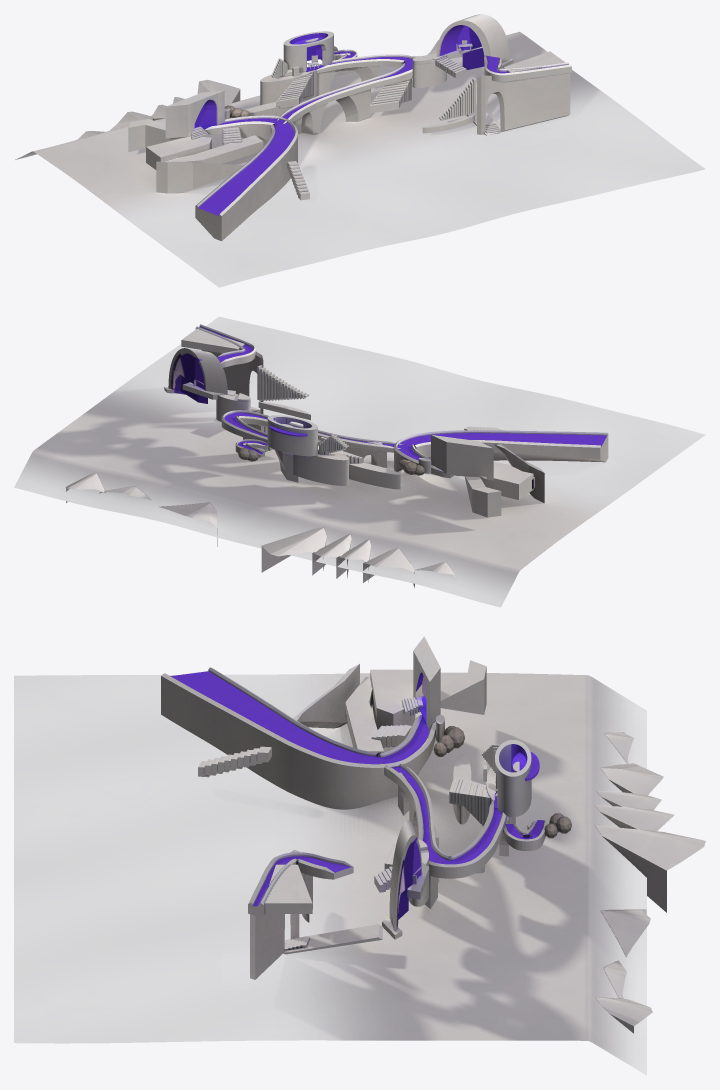
File: landscape.glb
3 renders of one model, top to bottom at view 1: azimuth 30°, elevation 25°; view 2: azimuth 150°, elevation 25°; view 3: azimuth 270°, elevation 25°, orthographic. The views are drawn at different scales.
Visible parts, largest first — view 1: terrain, path-development, terraces-left, mass-right, dest-support, dest-automation, path-bridge, viaduct-arches, dest-development, mountains, path-support, stairs-centre-right (+3 smaller); view 2: terrain, mountains, path-development, dest-automation, dest-support, terraces-left, dest-development, mass-right, viaduct-arches, path-bridge, fins-right, path-support (+1 smaller); view 3: terrain, path-development, mountains, terraces-left, mass-right, path-bridge, dest-support, dest-automation, path-support, dest-development, viaduct-arches, stairs-left (+3 smaller).
Part boxes in pixels (<box>): terrain: <box>15,31,705,287</box>; path-development: <box>195,115,297,240</box>; terraces-left: <box>128,119,263,193</box>; mass-right: <box>422,51,570,135</box>; dest-support: <box>412,14,513,87</box>; dest-automation: <box>260,31,333,105</box>; path-bridge: <box>276,54,414,123</box>; viaduct-arches: <box>243,56,403,134</box>; dest-development: <box>165,90,229,138</box>; mountains: <box>77,40,438,139</box>; path-support: <box>484,55,571,81</box>; stairs-centre-right: <box>369,78,411,113</box>; terrain: <box>14,316,705,607</box>; mountains: <box>65,473,457,587</box>; path-development: <box>394,430,608,478</box>; dest-automation: <box>267,415,348,485</box>; dest-support: <box>164,348,250,421</box>; terraces-left: <box>430,444,544,517</box>; dest-development: <box>418,435,493,480</box>; mass-right: <box>181,328,310,422</box>; viaduct-arches: <box>248,439,400,489</box>; path-bridge: <box>221,410,403,452</box>; fins-right: <box>257,365,309,401</box>; path-support: <box>195,324,256,367</box>; terrain: <box>14,672,646,1075</box>; path-development: <box>161,667,435,809</box>; mountains: <box>594,732,705,1033</box>; terraces-left: <box>293,660,486,752</box>; mass-right: <box>250,850,382,979</box>; path-bridge: <box>380,762,506,878</box>; dest-support: <box>382,820,429,939</box>; dest-automation: <box>483,740,539,824</box>; path-support: <box>248,852,353,917</box>; dest-development: <box>413,636,444,742</box>; viaduct-arches: <box>398,753,535,881</box>; stairs-left: <box>449,776,490,826</box>.
Size of the model in its own units: 48 by 11.75 by 38.26.
Materials: 2 (2 with a texture image).
